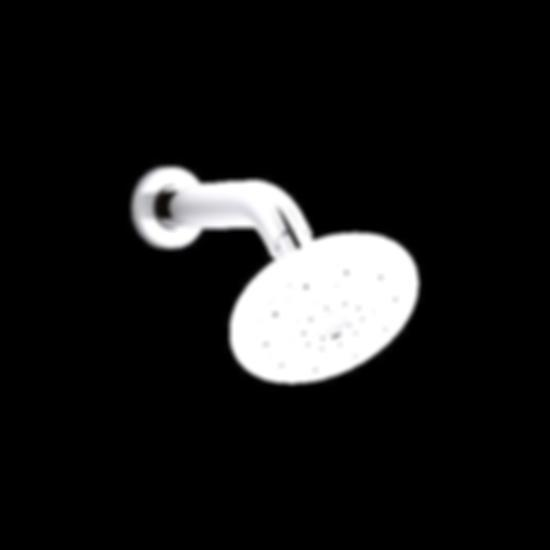Ducha: (103, 145, 461, 386)
